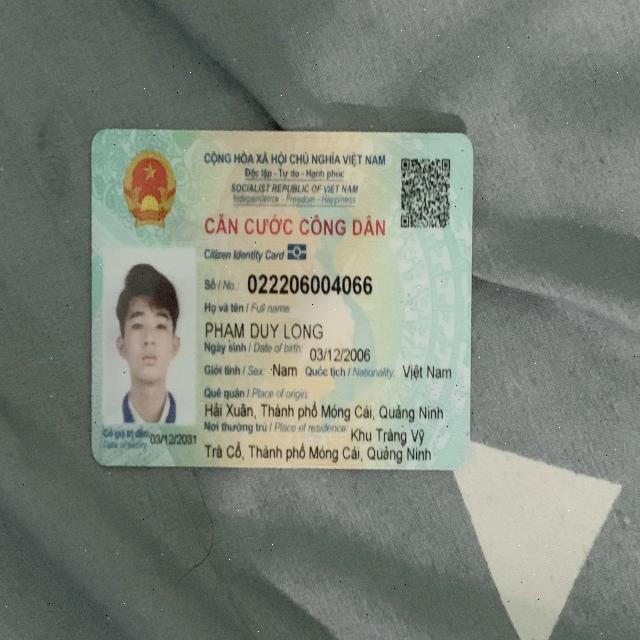current_place: (205, 438, 433, 466), (348, 425, 426, 447)
dob: (305, 342, 371, 363)
expire_date: (148, 430, 202, 446)
gender: (273, 360, 300, 380)
id: (245, 270, 378, 300)
name: (203, 318, 329, 345)
nationality: (398, 360, 454, 385)
origin_place: (205, 396, 446, 425)
